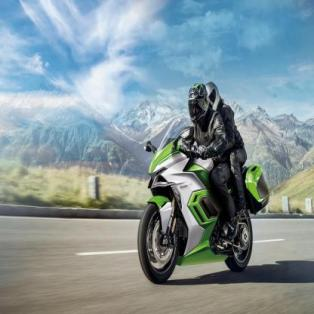Motocicleta: (133, 125, 266, 282)
